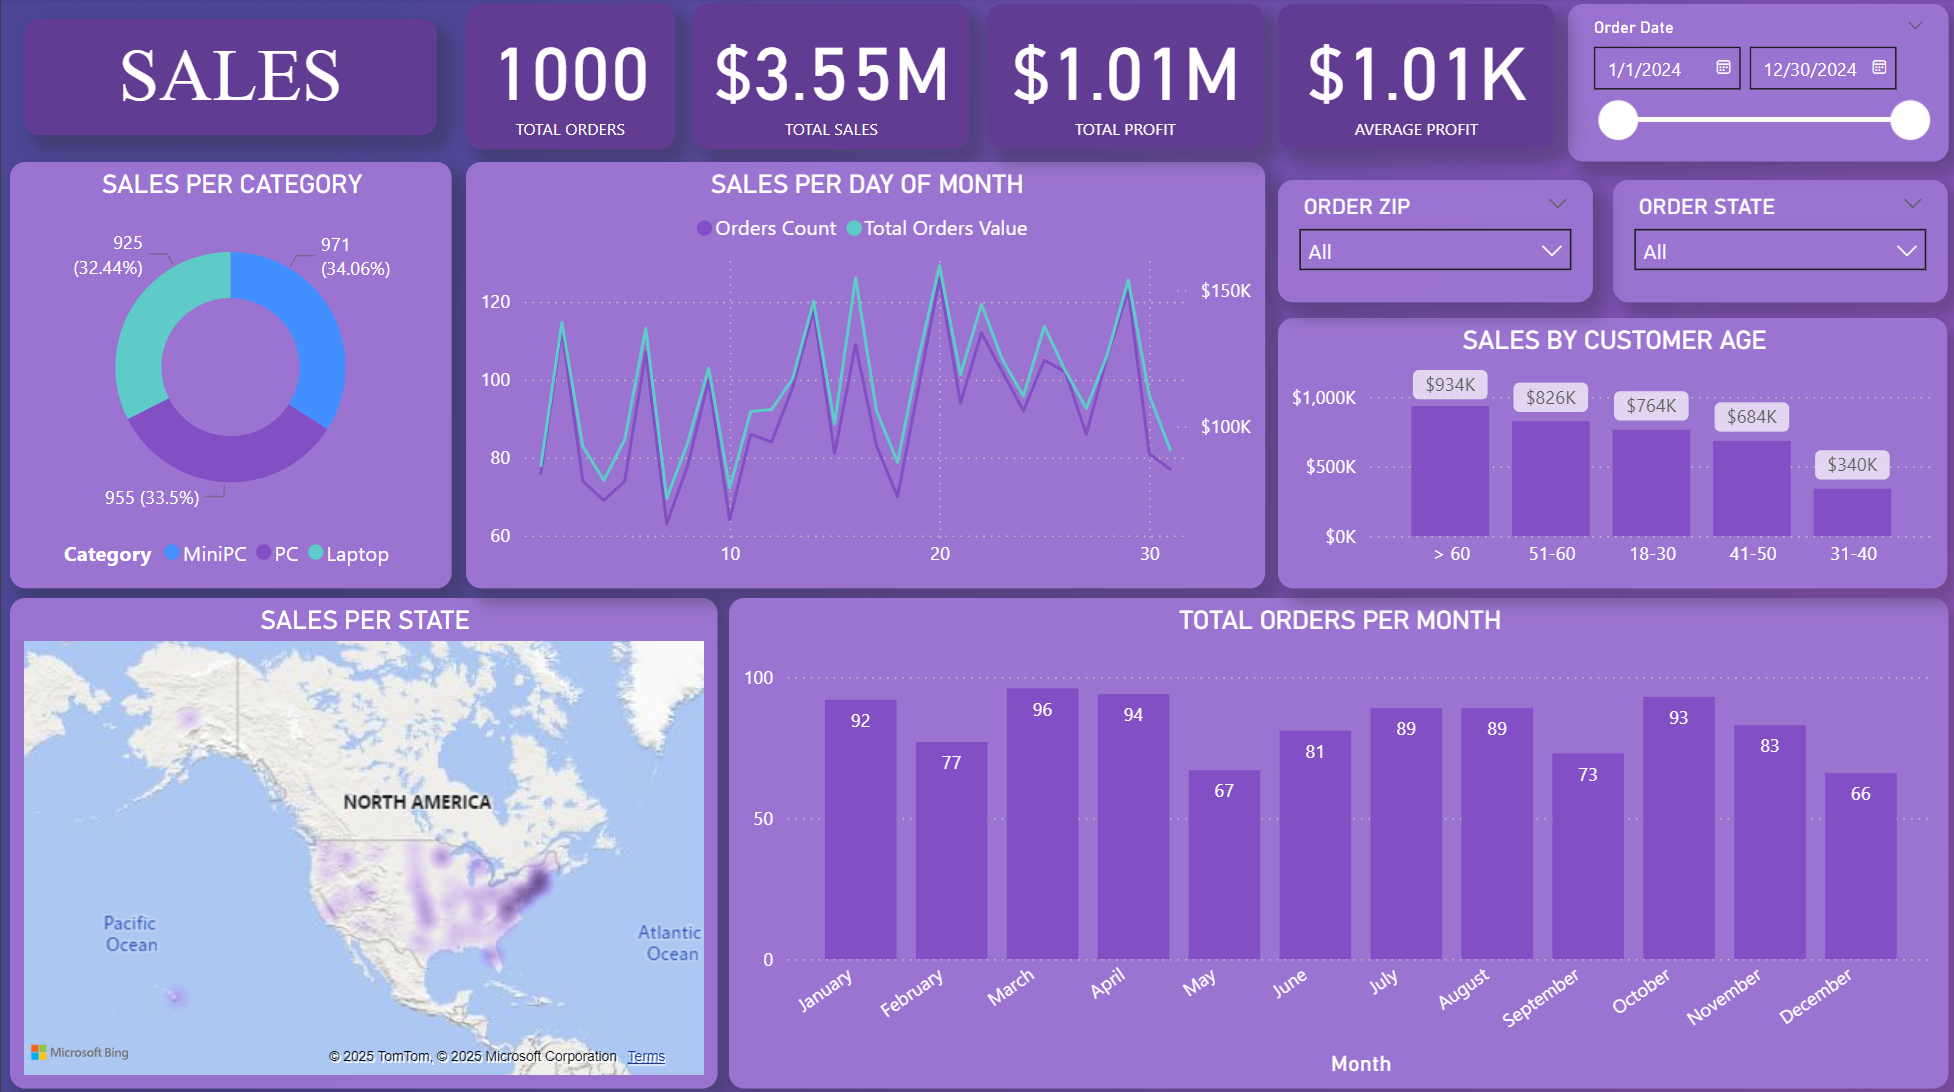

What the dashboard file says about the page in this screenshot:
{"tool":"powerbi","page":{"name":"SALES","canvas":[1280,720],"ordinal":0},"visuals":[{"type":"card","fields":{"Values":["Count(dashboard_1.order_id)"]},"box":[304.3,3.9,136.8,94.9],"z":0},{"type":"card","fields":{"Values":["Sum(dashboard_1.total_item_price)"]},"box":[452.8,3.9,181.3,94.9],"z":1000},{"type":"donutChart","title":"SALES PER CATEGORY","fields":{"Category":["dashboard_1.item_category"],"Y":["CountNonNull(dashboard_1.item_name)"]},"box":[5.9,107.3,288.6,278.8],"z":2000},{"type":"map","title":"SALES PER STATE","fields":{"Category":["dashboard_1.delivery_state","dashboard_1.delivery_zip"],"Size":["Sum(dashboard_1.order_cost)"]},"box":[5.9,392.6,462.7,321.3],"z":3000},{"type":"lineChart","title":"SALES PER DAY OF MONTH","fields":{"Y":["CountNonNull(dashboard_1.order_id)"],"Category":["dashboard_1.order_date.Variation.Date Hierarchy.Day"],"Y2":["Sum(dashboard_1.order_cost)"]},"box":[304.3,107.3,522.9,278.8],"z":4000},{"type":"slicer","fields":{"Values":["dashboard_1.order_date"]},"box":[1025.4,3.9,248.7,103.4],"z":5000},{"type":"slicer","fields":{"Values":["address.delivery_state"]},"box":[1054.9,119.1,219.2,80.5],"z":6000},{"type":"textbox","box":[15.1,13.7,270.3,75.9],"z":7000},{"type":"columnChart","title":"TOTAL ORDERS PER MONTH","fields":{"Category":["orders.order_date.Variation.Date Hierarchy.Month"],"Y":["Count(orders.order_id)"]},"box":[476.4,392.6,797.7,321.3],"z":8000},{"type":"lineStackedColumnComboChart","title":"SALES BY CUSTOMER AGE","fields":{"Category":["customers.age_group"],"Y":["Sum(dashboard_1.order_cost)"]},"box":[835.7,209.4,438.4,176.7],"z":9000},{"type":"slicer","fields":{"Values":["address.delivery_zip"]},"box":[835.7,119.1,206.1,80.5],"z":10000},{"type":"card","fields":{"Values":["Sum(order_cost.order_profit)"]},"box":[645.2,3.9,181.3,94.9],"z":11000},{"type":"card","fields":{"Values":["Avg(order_cost.order_profit)"]},"box":[835.7,3.9,181.3,94.9],"z":12000}]}

Visuals, with their boxes in screenshot pixels (x1, y1, x2, y2), scaled from the page's 1280x720 canvas onto the 1954x1092 screenshot:
card - Count(dashboard_1.order_id): box(465, 6, 673, 150)
card - Sum(dashboard_1.total_item_price): box(691, 6, 968, 150)
"SALES PER CATEGORY" donutChart: box(9, 163, 450, 586)
"SALES PER STATE" map: box(9, 595, 715, 1083)
"SALES PER DAY OF MONTH" lineChart: box(465, 163, 1263, 586)
slicer - dashboard_1.order_date: box(1565, 6, 1945, 163)
slicer - address.delivery_state: box(1610, 181, 1945, 303)
textbox: box(23, 21, 436, 136)
"TOTAL ORDERS PER MONTH" columnChart: box(727, 595, 1945, 1083)
"SALES BY CUSTOMER AGE" lineStackedColumnComboChart: box(1276, 318, 1945, 586)
slicer - address.delivery_zip: box(1276, 181, 1590, 303)
card - Sum(order_cost.order_profit): box(985, 6, 1262, 150)
card - Avg(order_cost.order_profit): box(1276, 6, 1553, 150)
